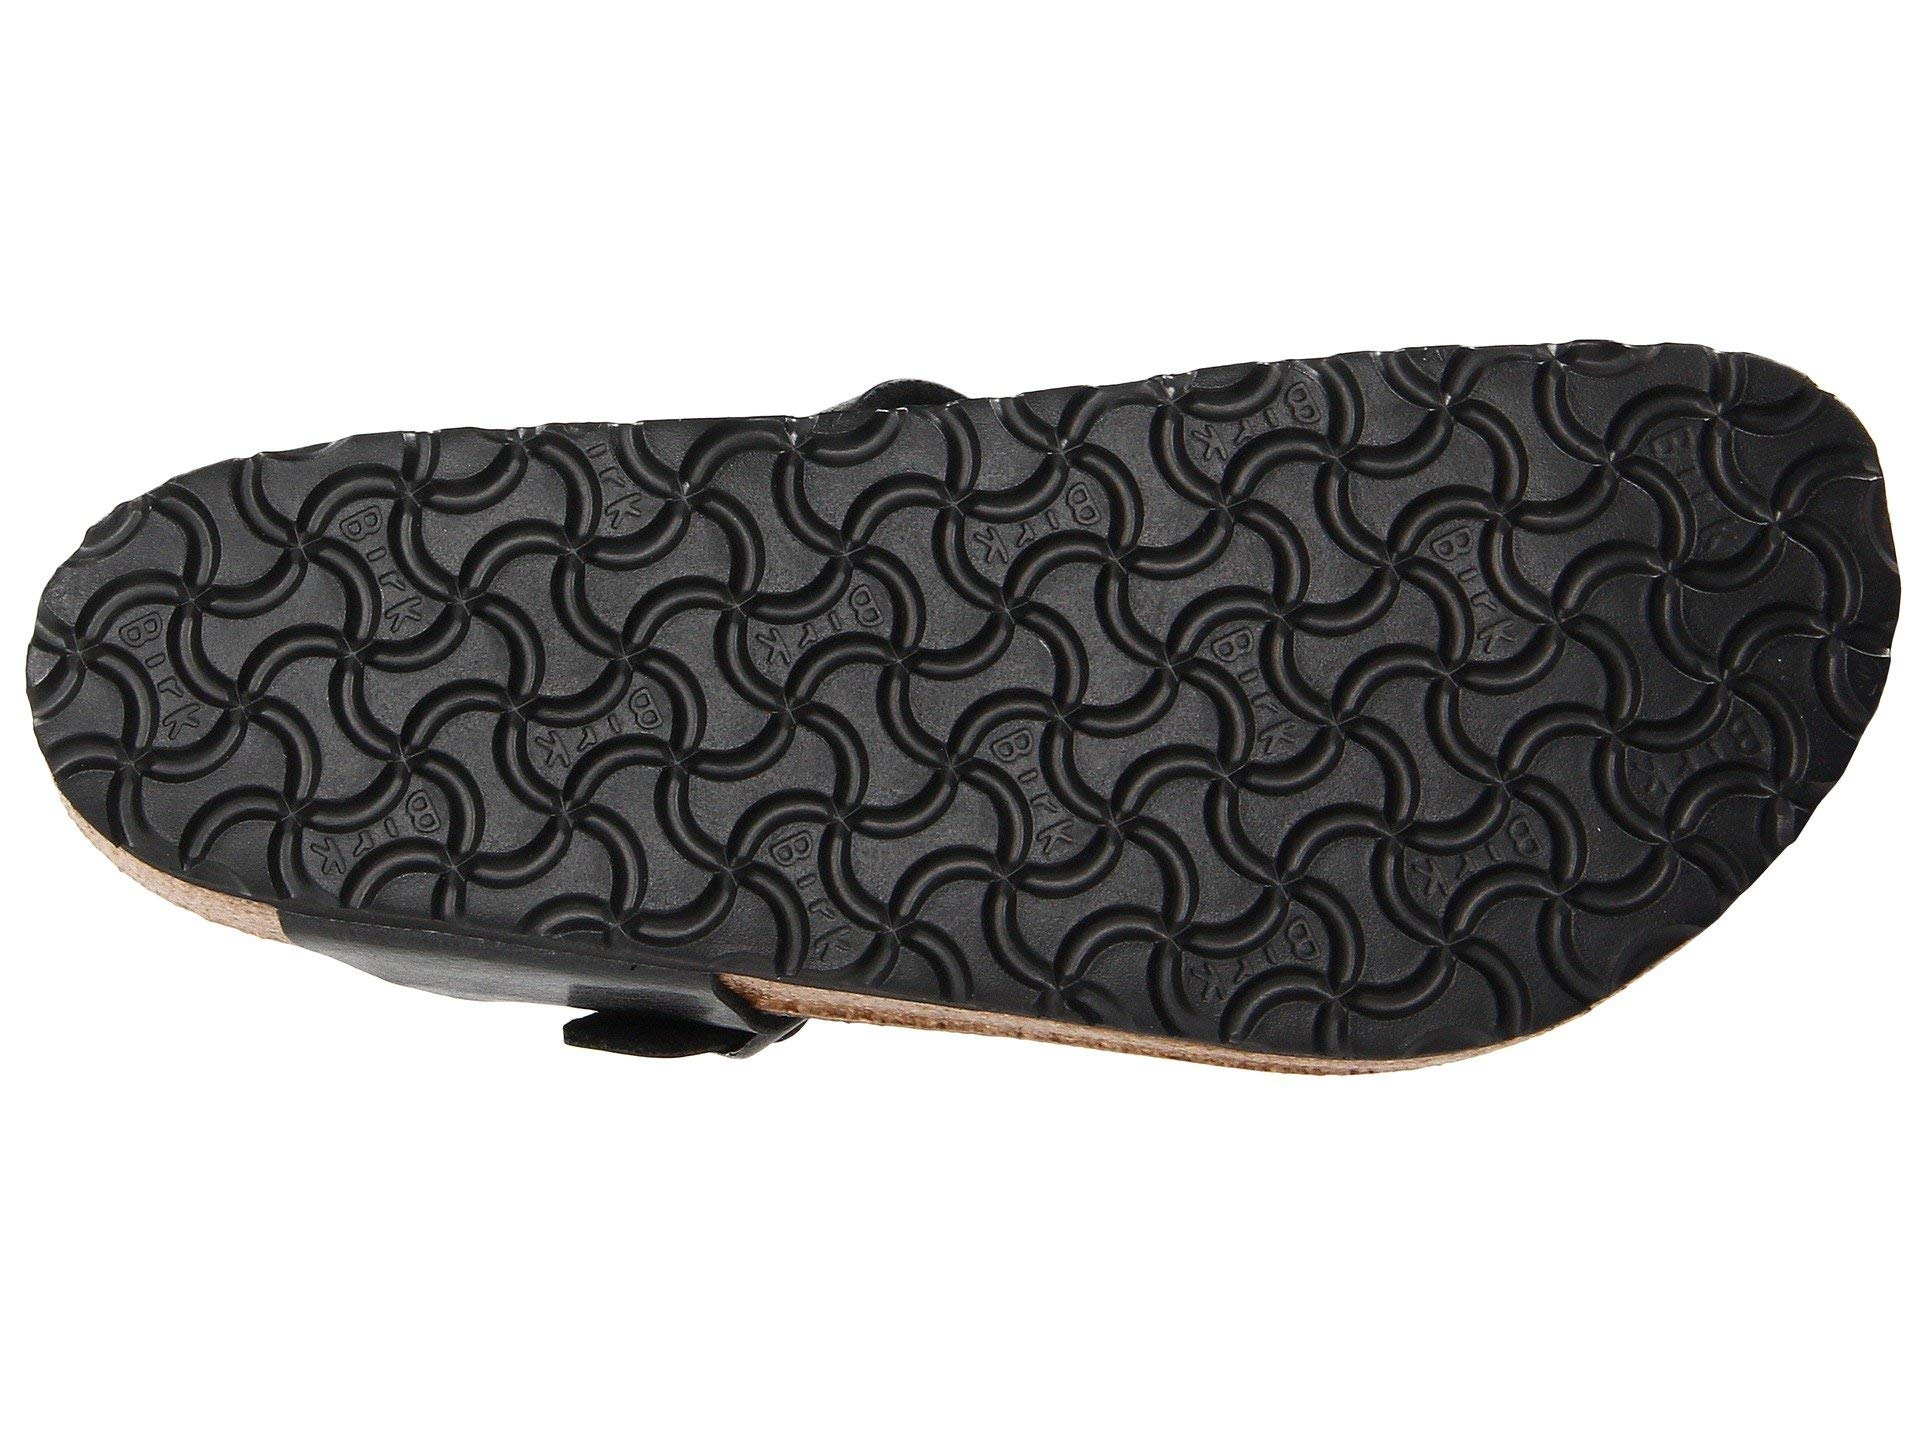bowtie: (207, 483, 1761, 827), (1141, 479, 1593, 965), (544, 445, 968, 926), (132, 501, 487, 871), (1578, 369, 1822, 601), (1129, 867, 1376, 1036), (1448, 343, 1754, 417)
text: (207, 483, 1761, 827), (1141, 479, 1593, 965), (544, 445, 968, 926), (132, 501, 487, 871), (1578, 369, 1822, 601), (1129, 867, 1376, 1036)
